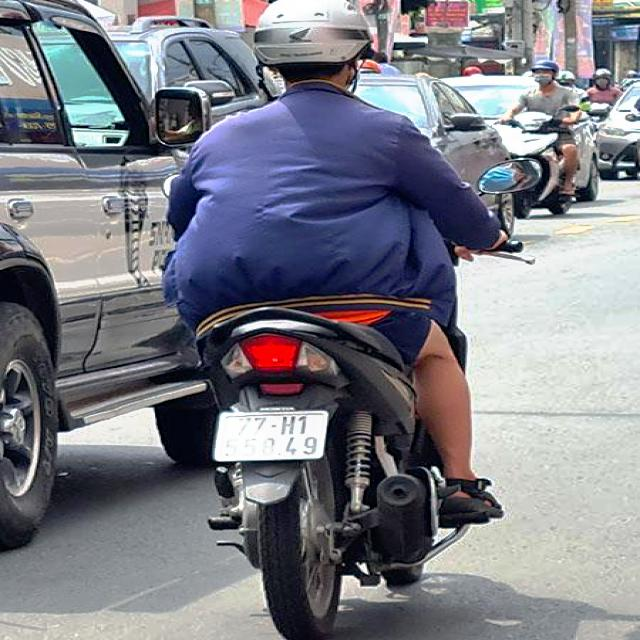license_plate: (218, 413, 329, 462)
